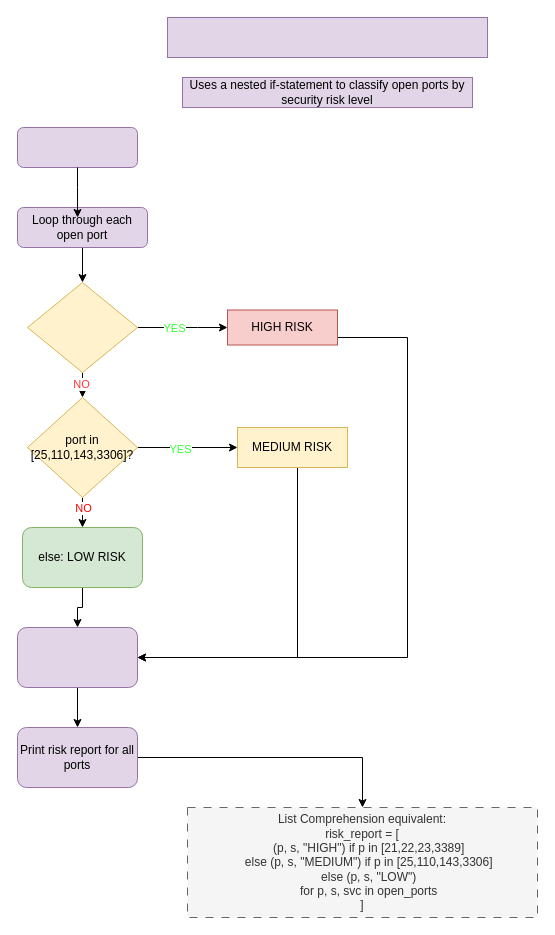
Some shapes in this 555 by 935 pixel diagram are drawn without their labels. The shapes that lost their labels are listed below. From the top down, each one's box as (x1, y1, x2, y2) in pixels, then its label:
(166, 16, 488, 58): Q5 Feature: Port Risk Classifier
(16, 126, 138, 168): get_open_ports()
(26, 282, 138, 372): port in [21,22,23,3389]?
(16, 626, 138, 688): Append (port, service, risk_level) to list
